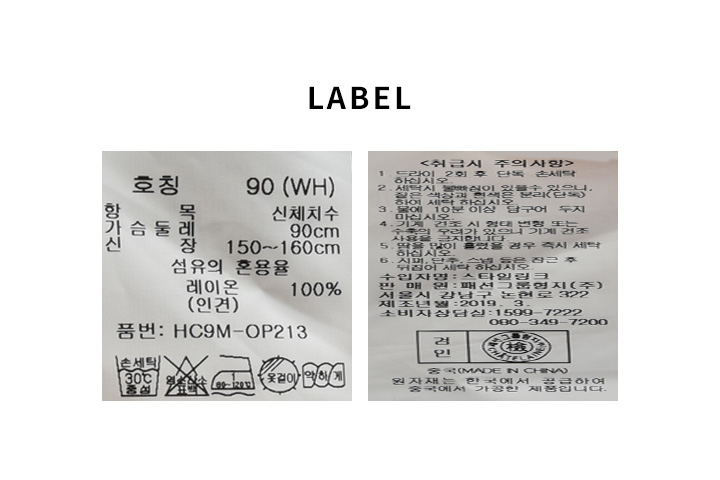KR_gentle_wring: (301, 358, 346, 391)
KR_hand_wash_30_neutral: (114, 350, 162, 399)
KR_hang_dry_in_shade: (258, 352, 301, 394)
KR_iron_low_temp_with_cloth: (210, 352, 257, 399)
KR_no_bleach: (161, 352, 210, 398)
